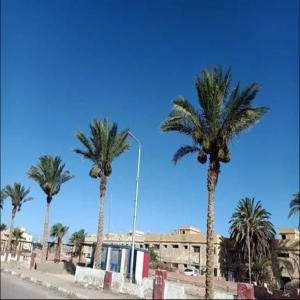palm tree: (159, 64, 270, 299), (70, 116, 131, 268), (26, 152, 75, 261), (228, 195, 276, 285), (1, 181, 33, 261), (50, 222, 68, 262)
